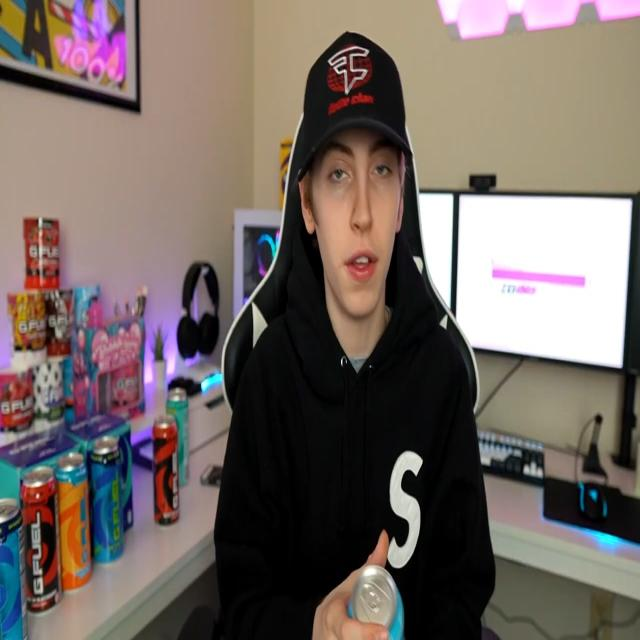can: (20, 469, 62, 615), (88, 428, 125, 569), (58, 450, 93, 591), (152, 412, 182, 528), (167, 382, 193, 486)
